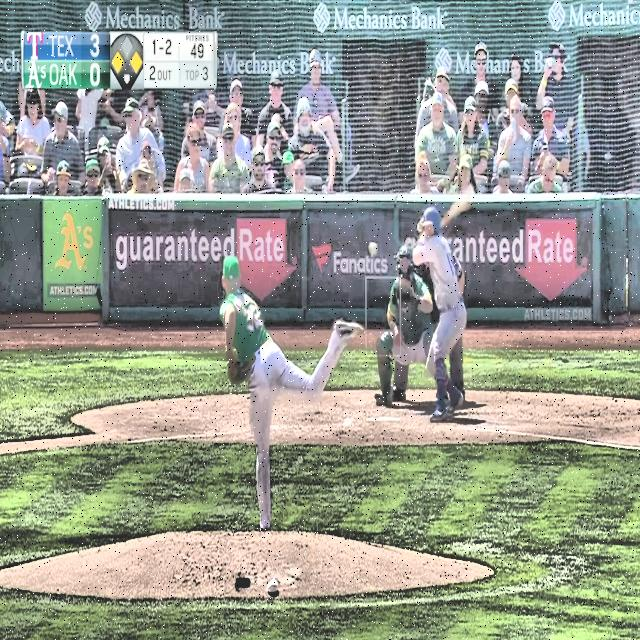baseball: (368, 240, 379, 256)
